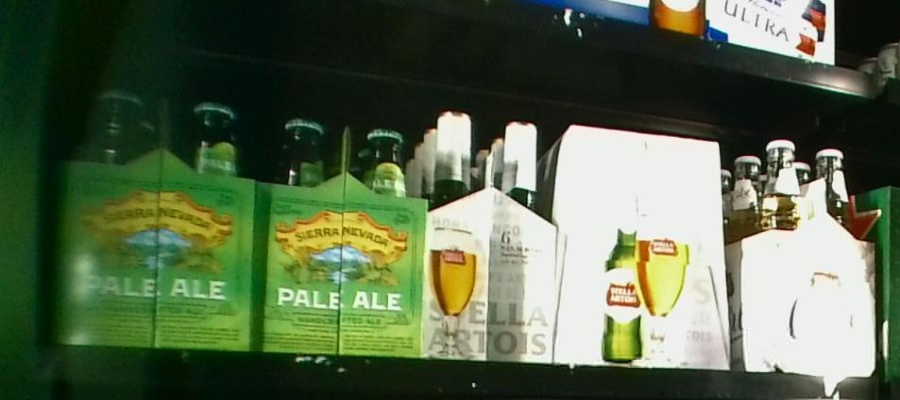bottle: (57, 85, 258, 358), (262, 110, 426, 356), (559, 120, 721, 366), (430, 107, 554, 362), (753, 139, 875, 378)
